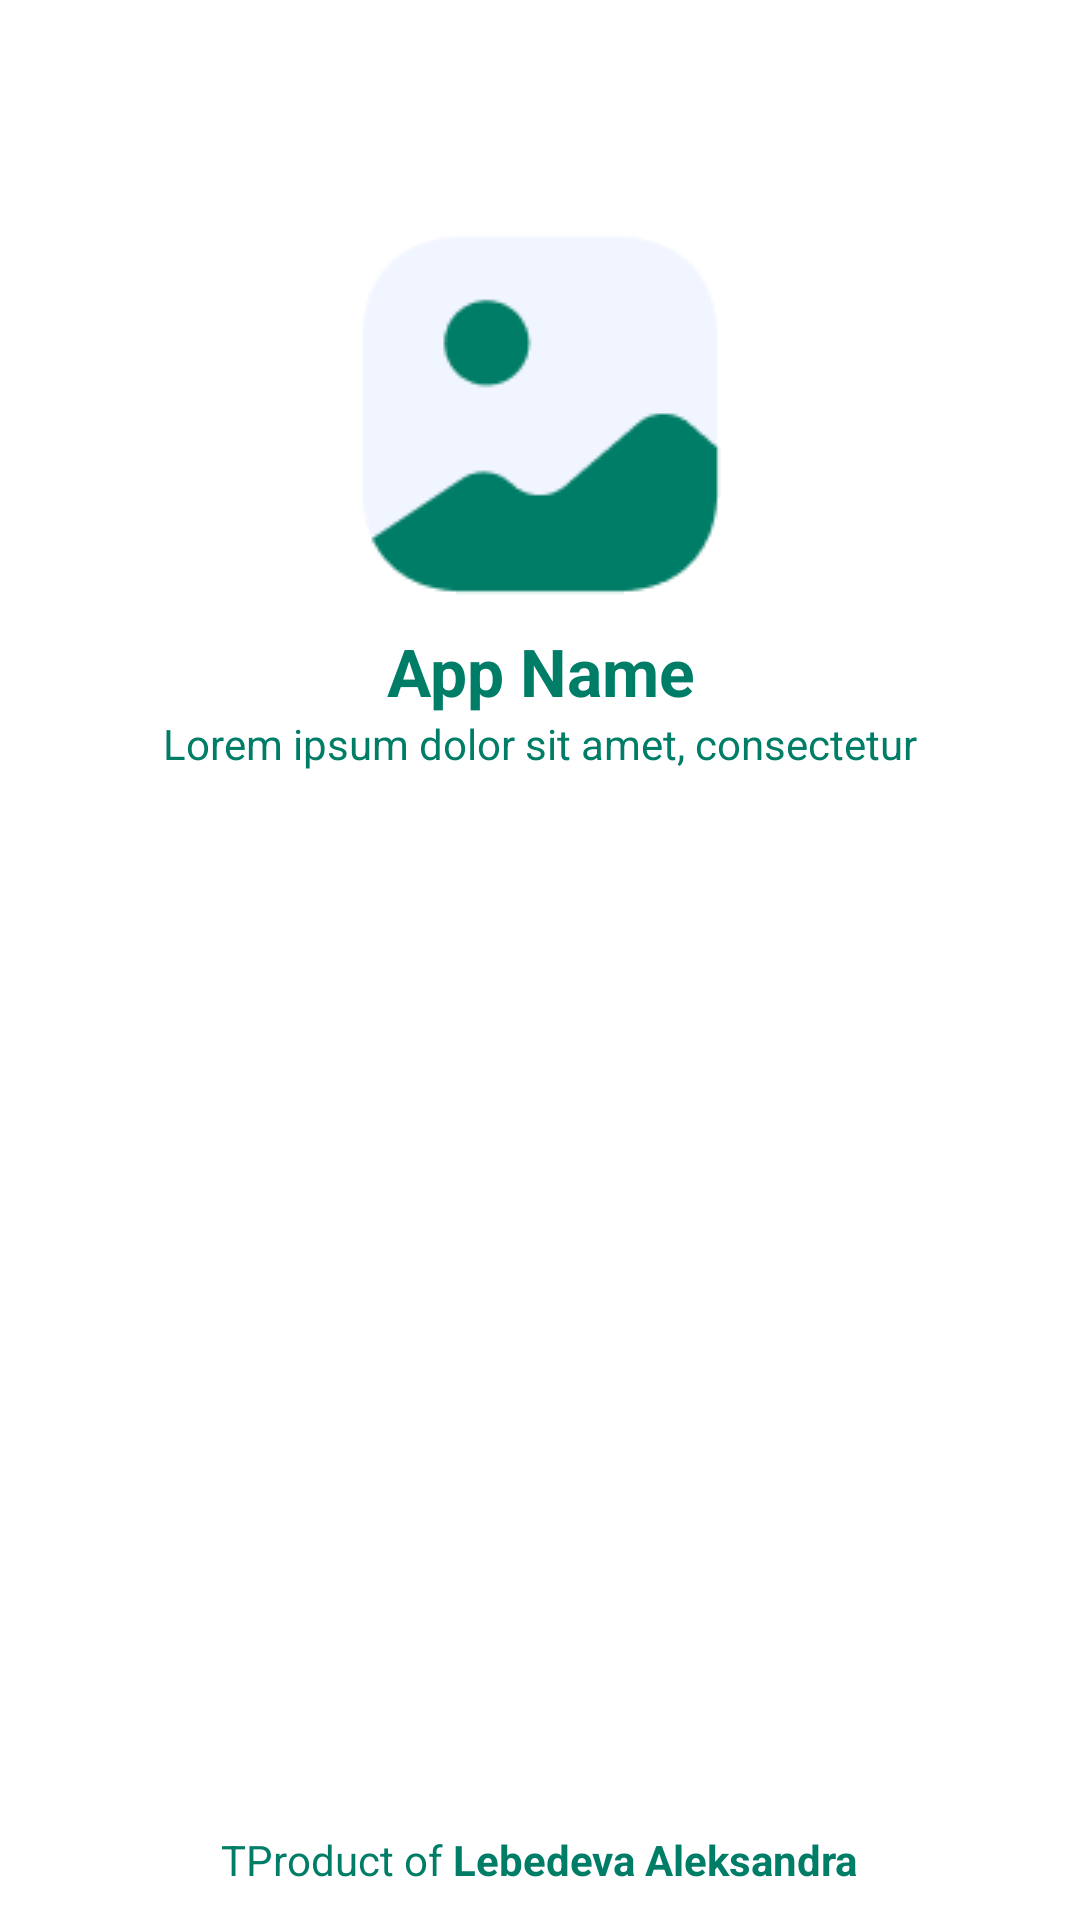

Icons on this 1080 × 1920 Android screen, each with the point to tap as [x,y]:
gallery: [542,416]
